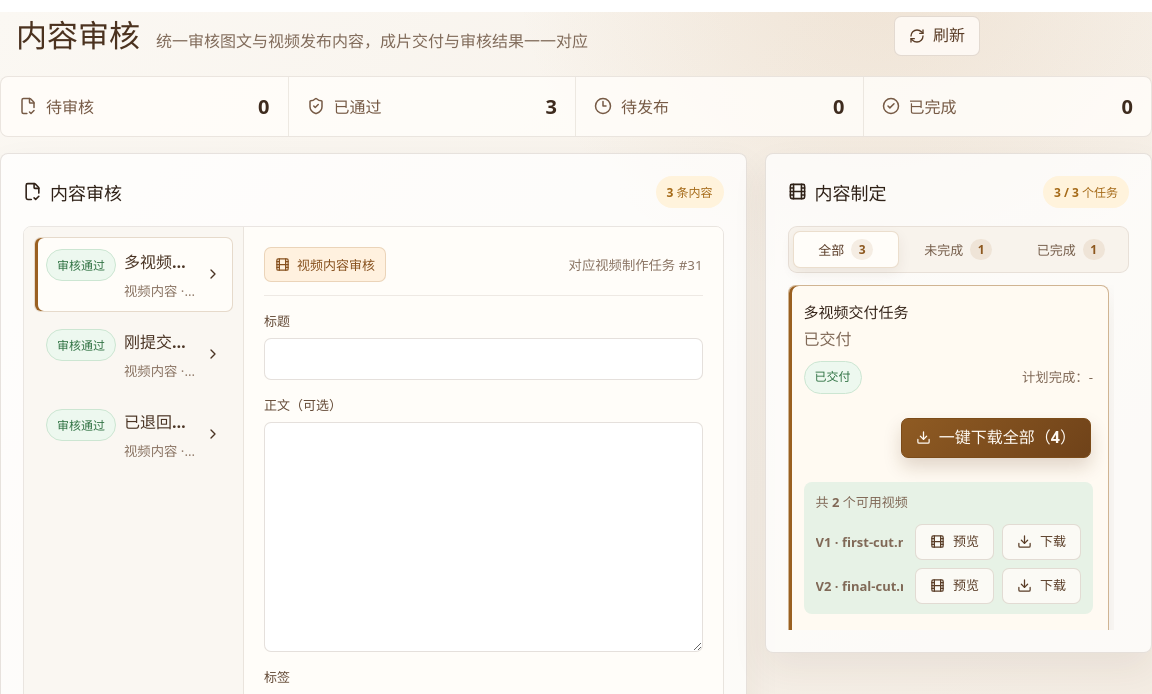
Test: PublishTasksPage video delivery › filters real video jobs by unfinished and completed status
This screenshot has width=1152, height=694.
expect the element "内容制定" is shown: met, box x1=764 y1=153 x2=1151 y2=653
expect the text "多视频交付任务" below "内容制定" is shown: met, box x1=804 y1=302 x2=908 y2=322
Click the button "未完成 1".
click(958, 249)  # box x1=905 y1=231 x2=1012 y2=268
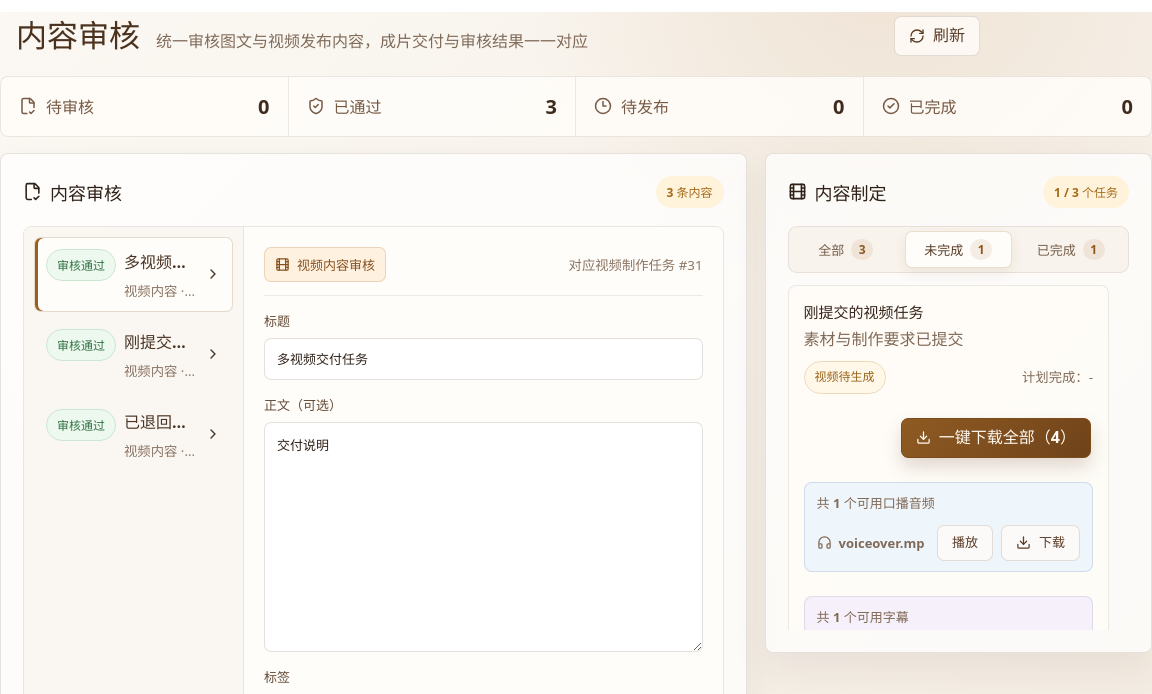
expect the text "刚提交的视频任务" below "内容制定" is shown: met, box x1=804 y1=302 x2=924 y2=322
Click the button "已完成 1".
click(1071, 249)  # box x1=1018 y1=231 x2=1124 y2=268
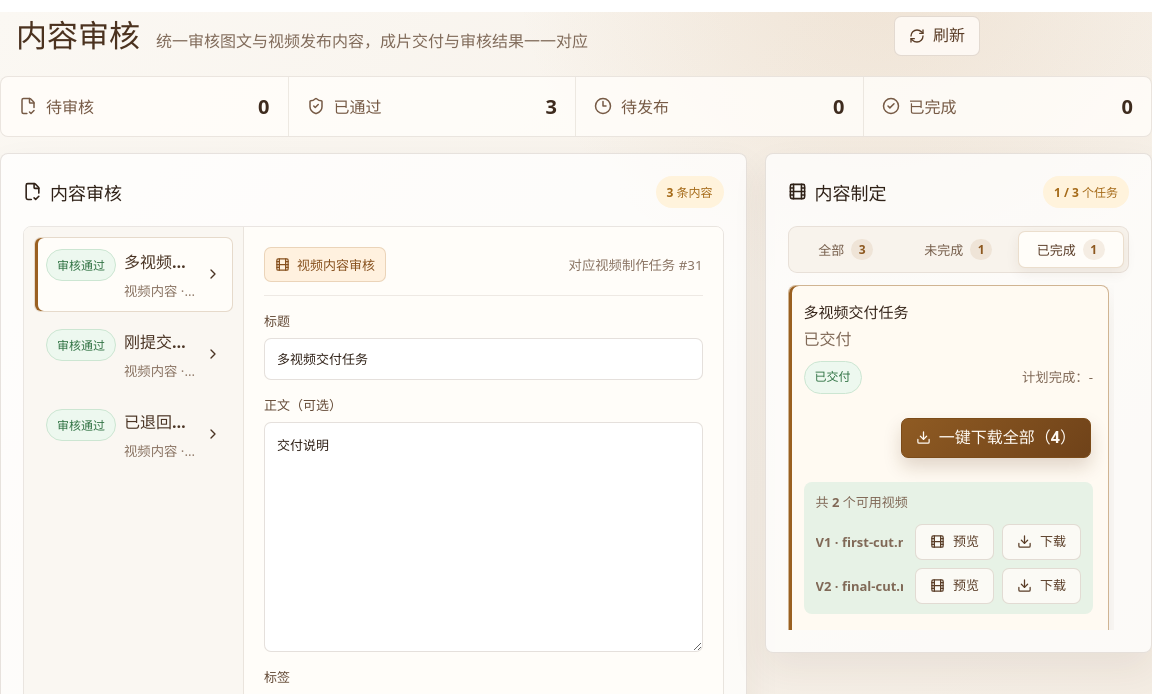
expect the text "多视频交付任务" below "内容制定" is shown: met, box x1=804 y1=302 x2=908 y2=322
